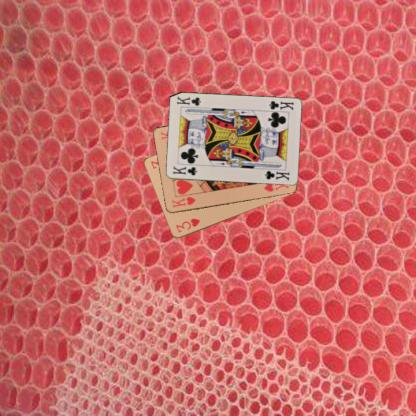3h: (173, 216, 201, 234)
Kc: (266, 98, 295, 112), (171, 163, 198, 177)
Kh: (169, 194, 197, 209)
